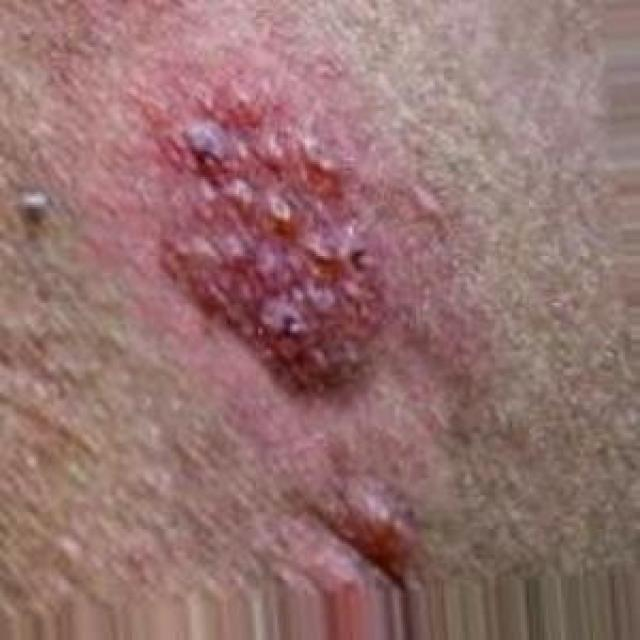Shingles: (159, 91, 384, 381)
